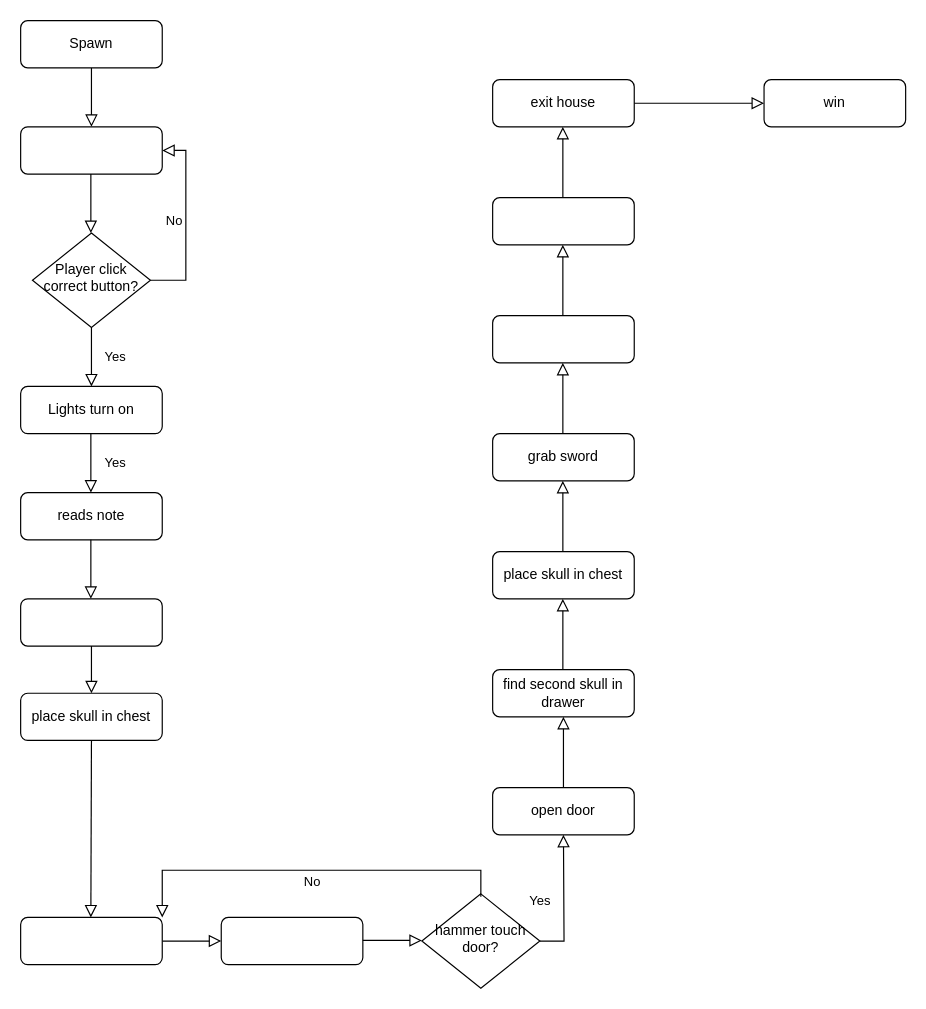
This 926x1009 diagram has some shape labels left out. The shapes that lost their labels are listed below. From the top down, each one's box as (x1, y1, x2, y2) in pixels, then its label:
(19, 126, 162, 174): Lights stay as off
(491, 196, 634, 245): kill monster
(491, 314, 634, 363): go to bedroom
(19, 598, 162, 646): find first skull in drawer
(19, 916, 162, 965): door lock
(220, 916, 363, 965): grab hammer
